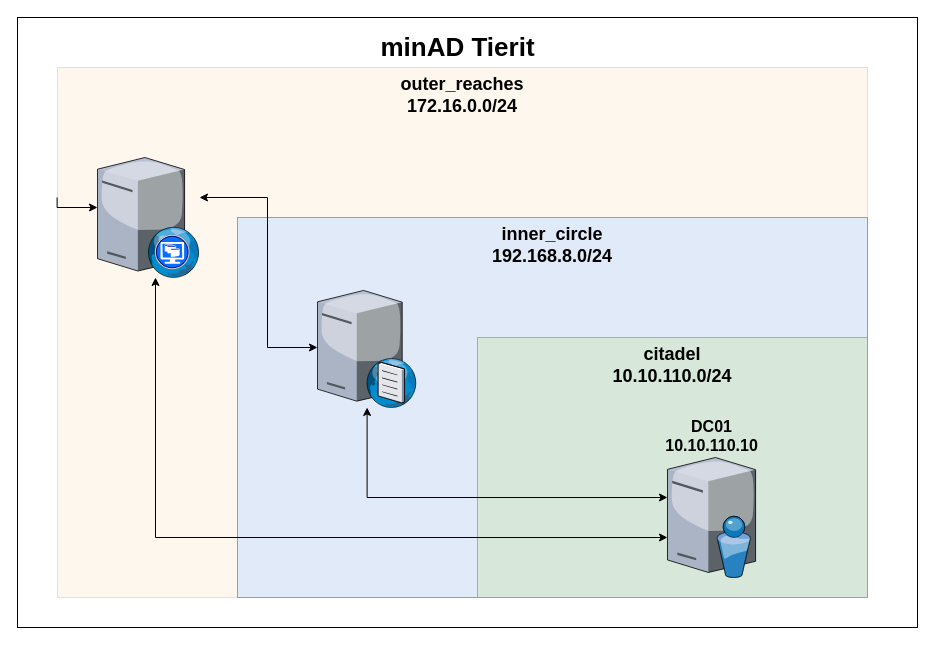
Some shapes in this 935 by 645 pixel diagram are drawn without their labels. The centre of each missing label's shape, as x and y in pixels:
SRV01 172.16.0.22: pixel 148 217
SRV02 192.168.8.22: pixel 366 347
